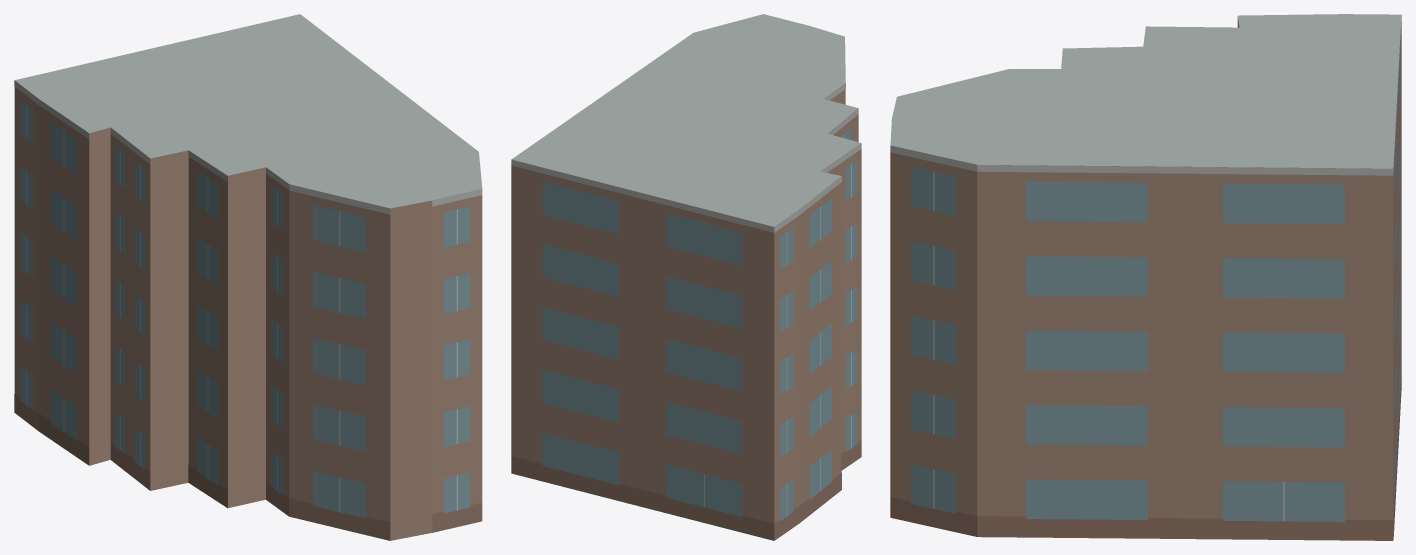
File: survey-upis-32653819.glb
3 renders of one model, left to right at view 1: azimuth 30°, elevation 25°; view 2: azimuth 150°, elevation 25°; view 3: azimuth 270°, elevation 25°, orthographic. The views are drawn at different scales.
Parts seen in each view (by area): view 1: survey-upis-32653819.tmp; view 2: survey-upis-32653819.tmp; view 3: survey-upis-32653819.tmp.
Part boxes in pixels (bbox=[...]): survey-upis-32653819.tmp: bbox=[14, 14, 482, 540]; survey-upis-32653819.tmp: bbox=[511, 14, 861, 540]; survey-upis-32653819.tmp: bbox=[890, 14, 1401, 540].
Bounding box in the file's own units: 11.59 × 13 × 16.19.
